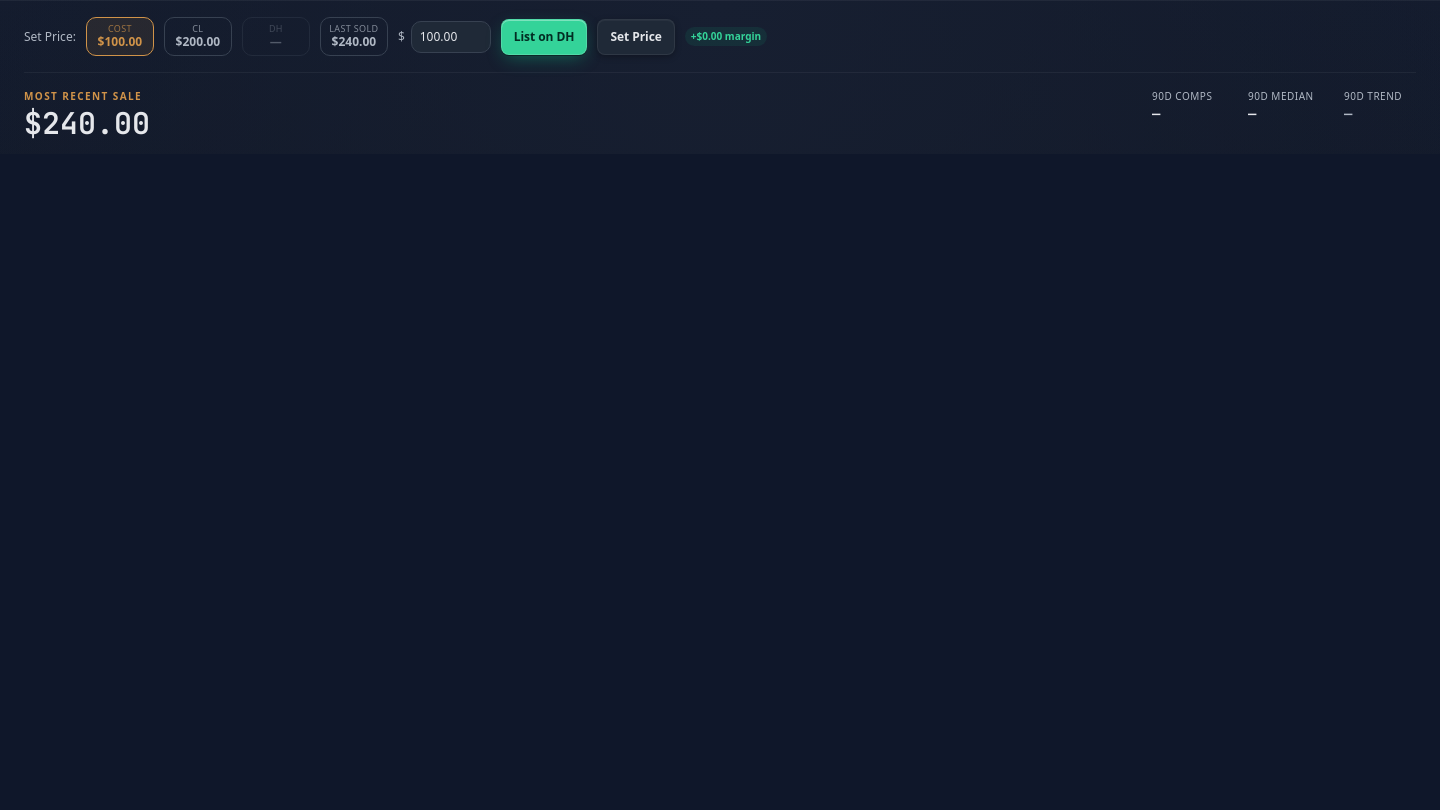
Test: ExpandedDetail combined set-and-list › does not announce listing success for an already-listed response with unconfirmed price
This screenshot has width=1440, height=810.
Click the button "List on DH": (544, 37) [501,19,587,55]
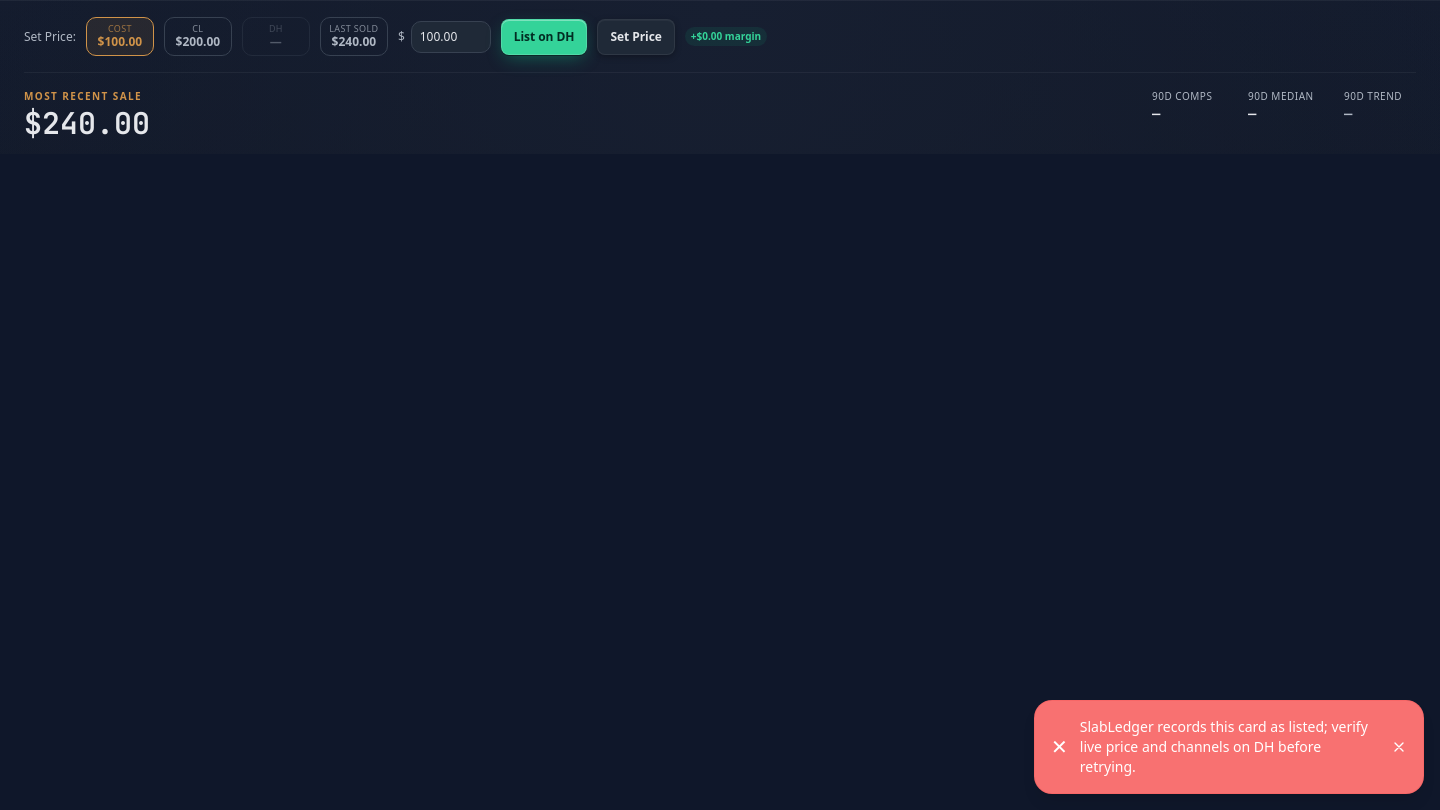
expect the text "verify live price and channels on DH" is shown: met, box [1080,717,1368,776]
